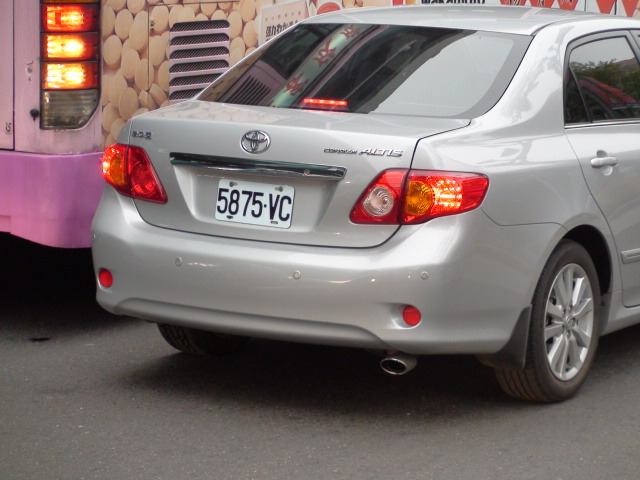plate: (216, 176, 297, 230)
